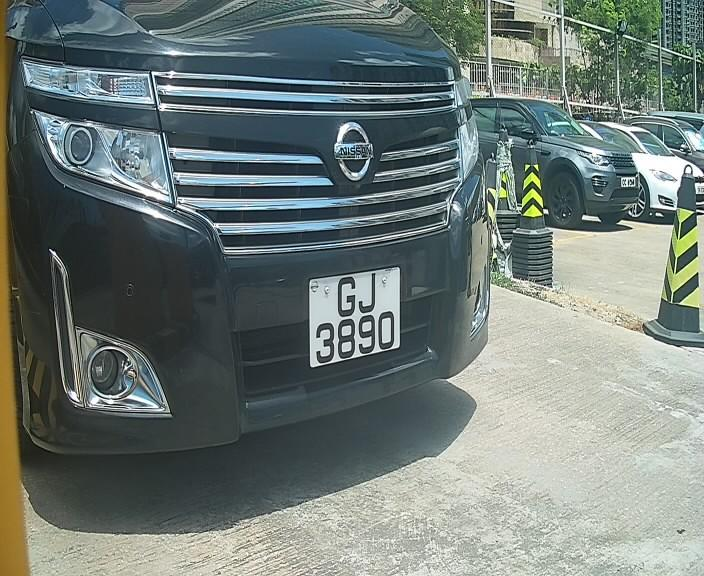privatecar: (2, 10, 519, 478)
